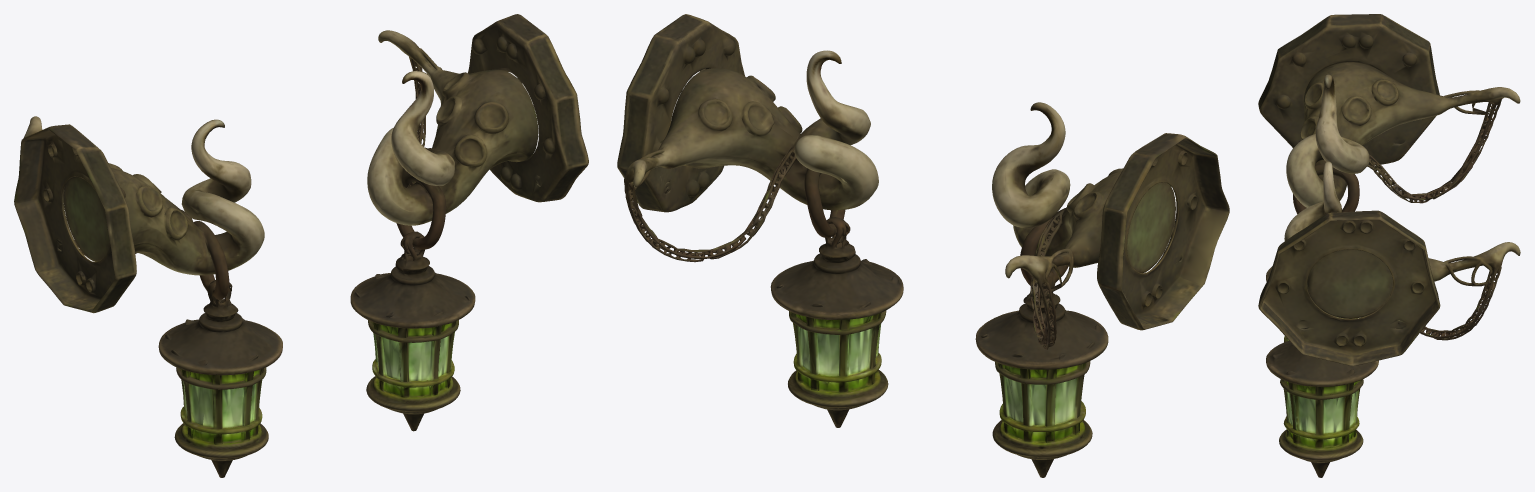
The model's file is wall-lantern.glb.
3 views of the same model, side by side, from view 1: azimuth 30°, elevation 25°; view 2: azimuth 150°, elevation 25°; view 3: azimuth 270°, elevation 25° (orthographic). The views are drawn at different scales.
Parts seen in each view (by area): view 1: material; view 2: material; view 3: material.
Part boxes in pixels (x1,y1,x2,y2): material: [14, 14, 588, 477]; material: [617, 14, 1229, 477]; material: [1258, 14, 1520, 477].
Bounding box in the file's own units: 0.9618 × 0.6967 × 0.5171.
1 material, 1 textured.
